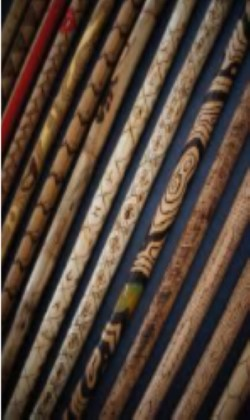baston_e: (73, 25, 249, 392), (47, 7, 214, 393), (16, 9, 177, 393), (12, 13, 144, 346), (105, 109, 243, 411), (3, 16, 121, 297), (6, 16, 99, 231), (147, 215, 242, 407), (5, 15, 71, 175), (186, 293, 245, 406)
